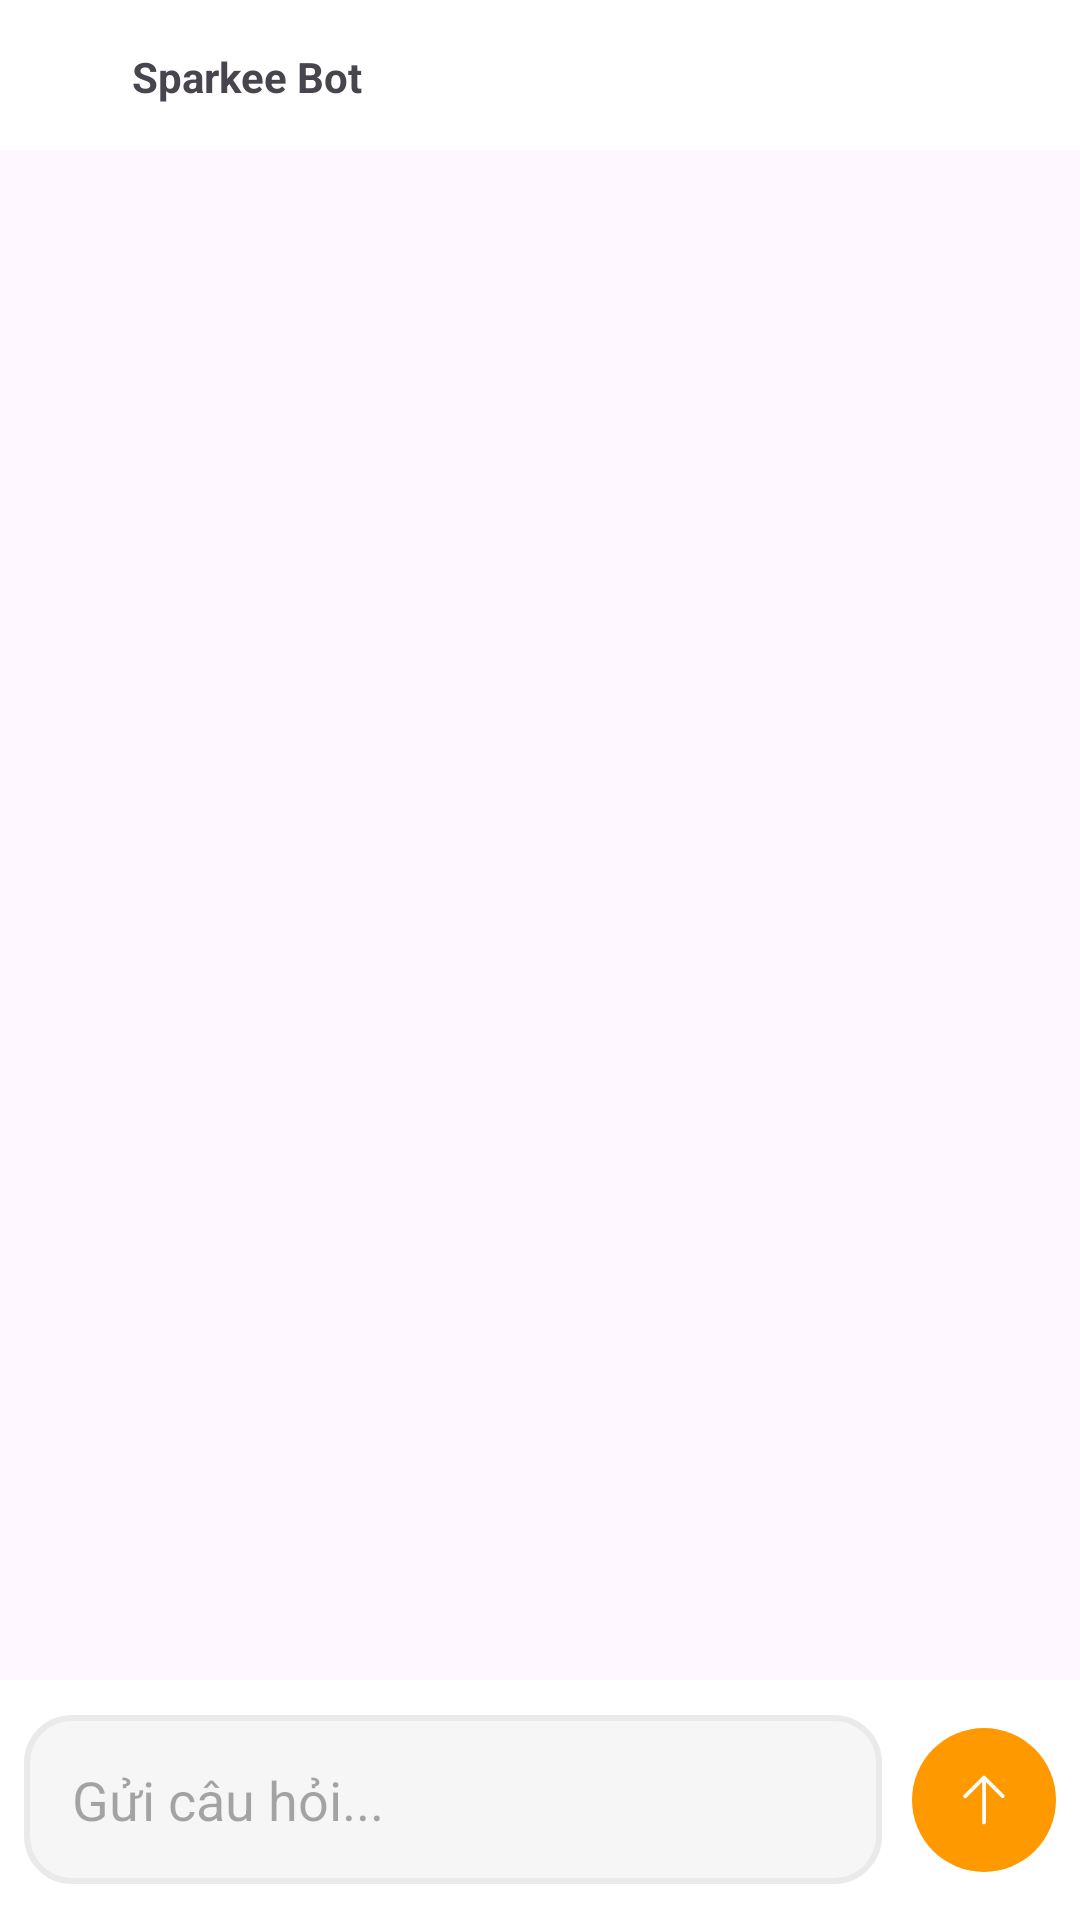

Where icons sit on this 1080 × 1920 app screen, as {"left": x1, "top": y1, "right": x2, "bottom": y2}:
sendbtn: {"left": 912, "top": 1728, "right": 1056, "bottom": 1872}
